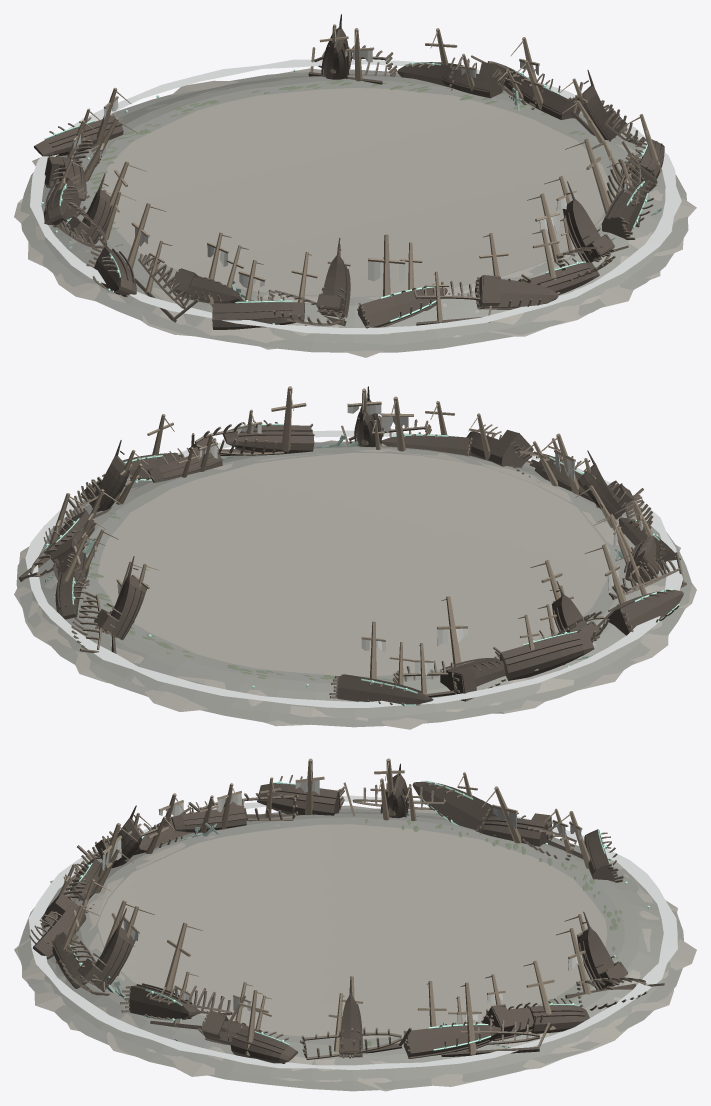
File: arena_wrack.glb
3 renders of one model, top to bottom at view 1: azimuth 30°, elevation 25°; view 2: azimuth 150°, elevation 25°; view 3: azimuth 270°, elevation 25°, orthographic.
Visible parts, largest first — view 1: WrackArena_Base, WrackArena_DecoShallows, WrackArena_Fleet, WrackArena_FleetMasts, WrackArena_FleetRibs, WrackArena_Foam, WrackArena_DecoSailRag, WrackArena_DecoTideline, WrackArena_DecoGhostGlow; view 2: WrackArena_Base, WrackArena_DecoShallows, WrackArena_Fleet, WrackArena_FleetMasts, WrackArena_FleetRibs, WrackArena_Foam, WrackArena_DecoSailRag, WrackArena_DecoGhostGlow, WrackArena_DecoTideline; view 3: WrackArena_Base, WrackArena_DecoShallows, WrackArena_Fleet, WrackArena_FleetMasts, WrackArena_FleetRibs, WrackArena_Foam, WrackArena_DecoSailRag, WrackArena_DecoGhostGlow, WrackArena_DecoTideline.
Part boxes in pixels (left/top/right/bottom): WrackArena_Base: left=14, top=68, right=696, bottom=357; WrackArena_DecoShallows: left=20, top=69, right=688, bottom=352; WrackArena_Fleet: left=34, top=14, right=664, bottom=329; WrackArena_FleetMasts: left=57, top=24, right=662, bottom=322; WrackArena_FleetRibs: left=49, top=45, right=656, bottom=328; WrackArena_Foam: left=30, top=59, right=681, bottom=334; WrackArena_DecoSailRag: left=73, top=49, right=631, bottom=288; WrackArena_DecoTideline: left=87, top=79, right=586, bottom=246; WrackArena_DecoGhostGlow: left=41, top=62, right=648, bottom=324; WrackArena_Base: left=14, top=440, right=696, bottom=729; WrackArena_DecoShallows: left=16, top=441, right=692, bottom=727; WrackArena_Fleet: left=18, top=386, right=686, bottom=705; WrackArena_FleetMasts: left=45, top=386, right=652, bottom=695; WrackArena_FleetRibs: left=21, top=415, right=684, bottom=705; WrackArena_Foam: left=25, top=430, right=683, bottom=707; WrackArena_DecoSailRag: left=56, top=403, right=643, bottom=675; WrackArena_DecoGhostGlow: left=45, top=423, right=679, bottom=706; WrackArena_DecoTideline: left=82, top=512, right=543, bottom=682; WrackArena_Base: left=14, top=805, right=696, bottom=1091; WrackArena_DecoShallows: left=17, top=808, right=683, bottom=1091; WrackArena_Fleet: left=33, top=763, right=635, bottom=1063; WrackArena_FleetMasts: left=55, top=758, right=591, bottom=1055; WrackArena_FleetRibs: left=29, top=775, right=664, bottom=1059; WrackArena_Foam: left=28, top=795, right=677, bottom=1069; WrackArena_DecoSailRag: left=102, top=779, right=585, bottom=1024; WrackArena_DecoGhostGlow: left=68, top=780, right=649, bottom=1050; WrackArena_DecoTideline: left=362, top=819, right=624, bottom=1047.
Size of the model in its own units: 350 by 60.85 by 353.
